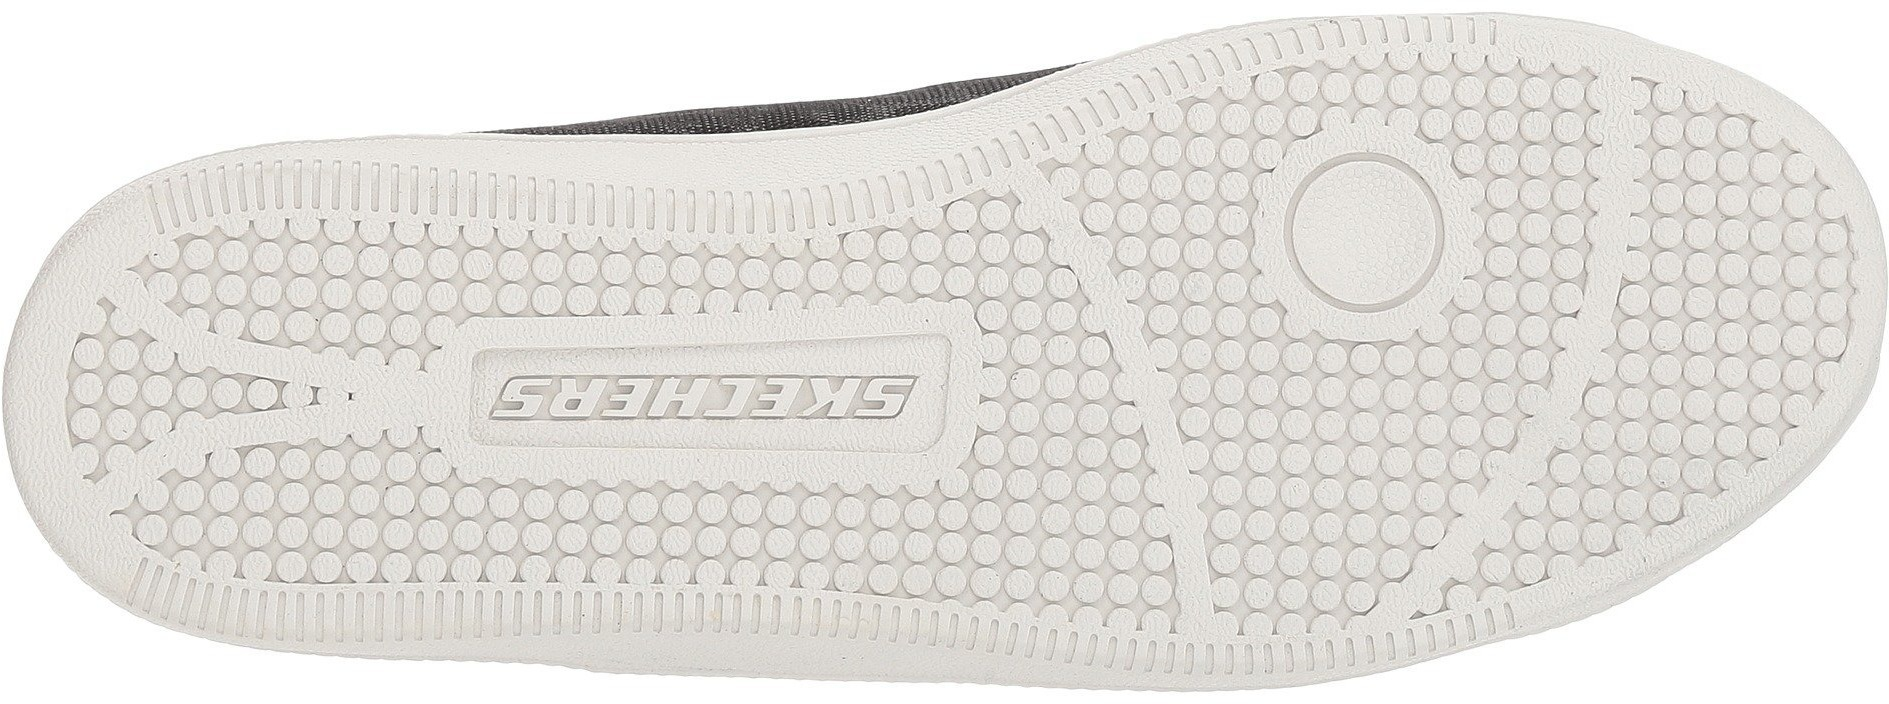circle: (133, 245, 422, 542), (1222, 351, 1410, 580), (1637, 196, 1841, 405), (1285, 149, 1457, 330), (973, 446, 1142, 616), (1101, 122, 1257, 272), (1463, 75, 1591, 246), (279, 216, 426, 360), (299, 447, 440, 574), (1569, 407, 1694, 532), (1416, 340, 1523, 460), (993, 332, 1110, 440), (729, 475, 840, 583), (508, 486, 606, 586), (69, 350, 170, 441)
text: (758, 338, 869, 448), (487, 360, 583, 450), (671, 348, 758, 447), (587, 354, 666, 446), (870, 365, 928, 433)
